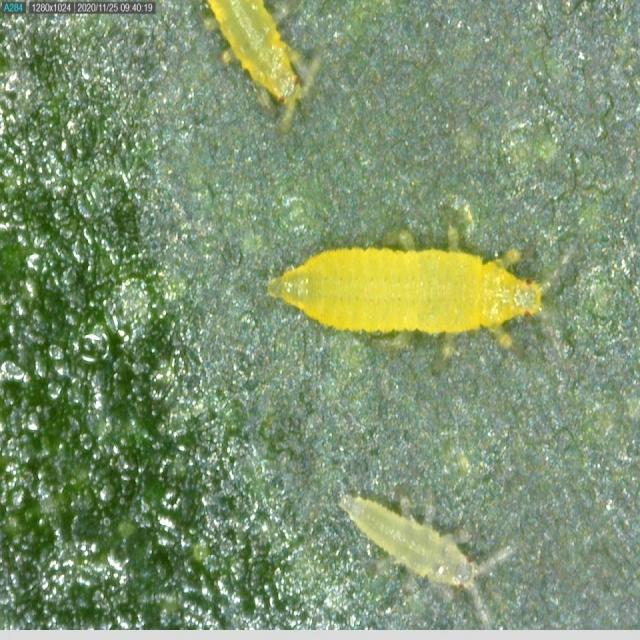Thrip-Larva-: (263, 208, 550, 347), (322, 474, 514, 610)
